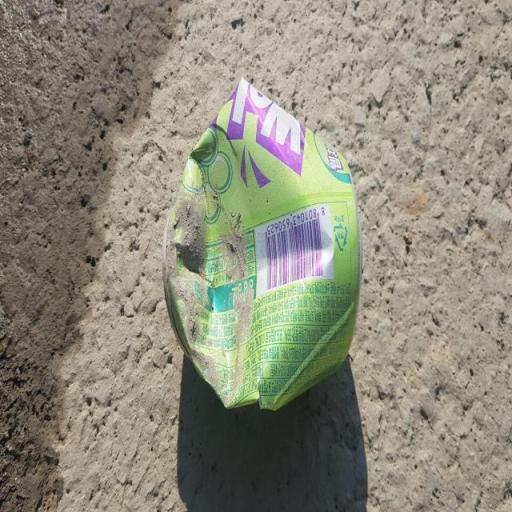metal: (138, 52, 380, 442)
